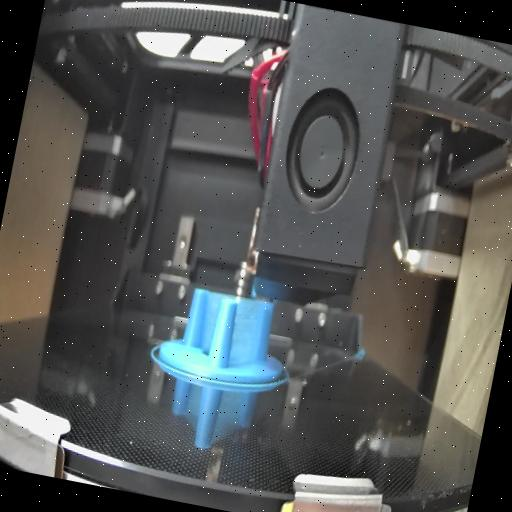stringing: (226, 297, 268, 369), (192, 293, 223, 356)
